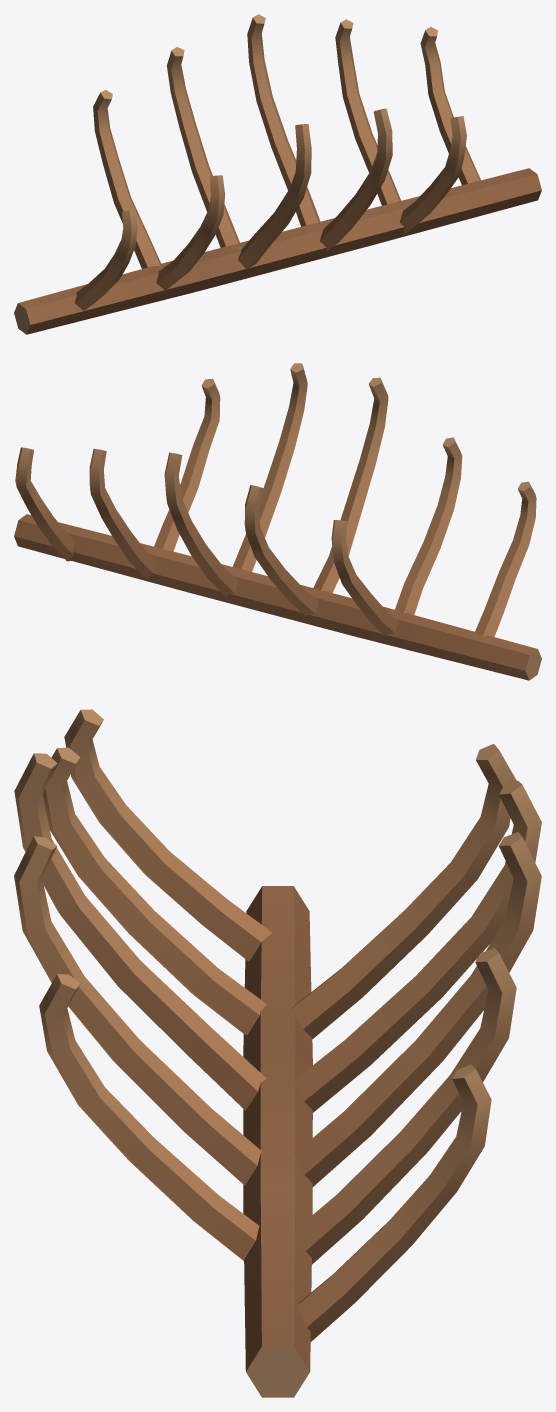
File: wreck_ribs.glb
3 renders of one model, top to bottom at view 1: azimuth 30°, elevation 25°; view 2: azimuth 150°, elevation 25°; view 3: azimuth 270°, elevation 25°, orthographic. The views are drawn at different scales.
Visible parts, largest first — view 1: wreck_ribs; view 2: wreck_ribs; view 3: wreck_ribs.
Part boxes in pixels (x1,y1,x2,y2): wreck_ribs: (14,14,541,334); wreck_ribs: (14,363,541,680); wreck_ribs: (14,709,541,1397).
Size of the model in its own units: 5.4 by 2.03 by 2.51.
